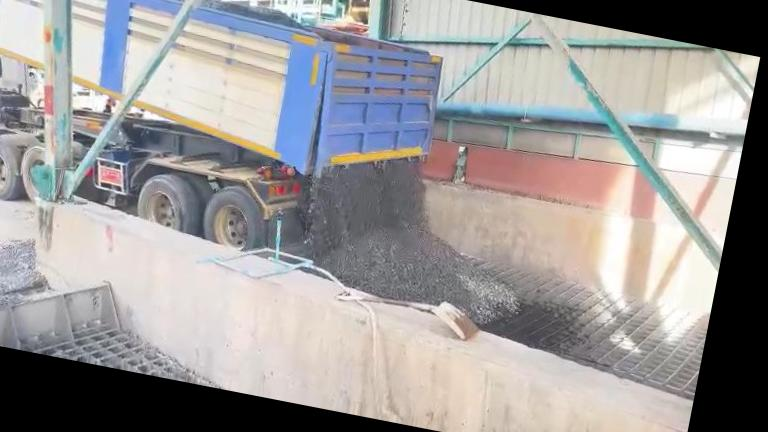gravel: (301, 161, 519, 324), (201, 0, 317, 35), (0, 240, 36, 321)
